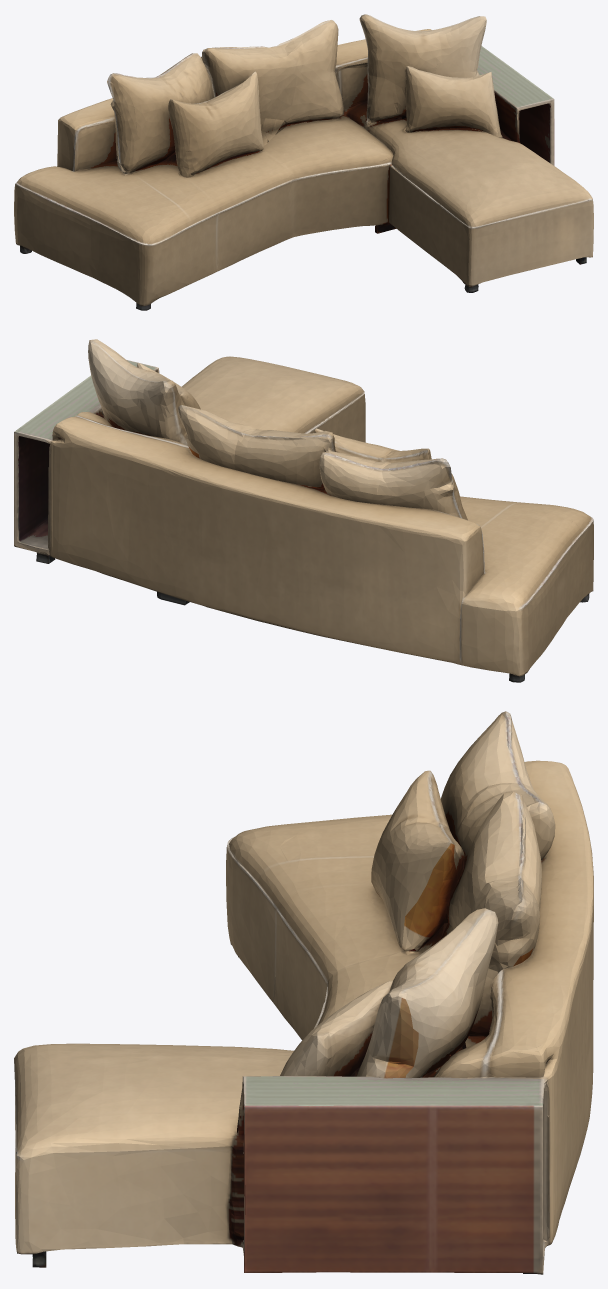
File: SALA PIERO DERECHA BUTERMIK.glb
The picture shows the model from 3 angles, top to bottom: view 1: azimuth 30°, elevation 25°; view 2: azimuth 150°, elevation 25°; view 3: azimuth 270°, elevation 25°; orthographic projection. The views are drawn at different scales.
Visible parts, largest first — view 1: world; view 2: world; view 3: world.
Boxes of the visible parts, <box> form: world: <box>14,14,593,310</box>; world: <box>14,339,593,682</box>; world: <box>14,711,593,1274</box>.
Size of the model in its own units: 1 by 0.3637 by 0.6651.
1 material, 1 textured.
